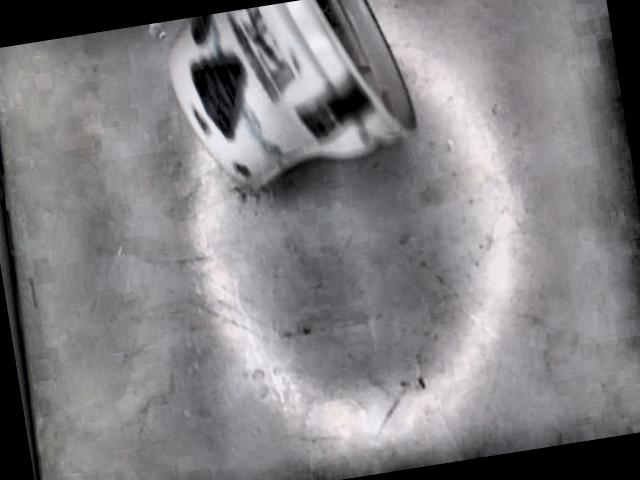Plastic: (165, 0, 418, 196)
